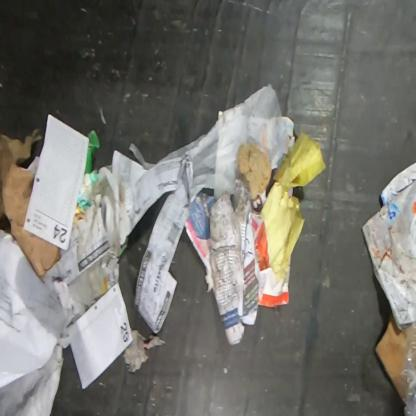cardboard: (374, 310, 411, 400)
soft_plastic: (400, 318, 415, 415)
